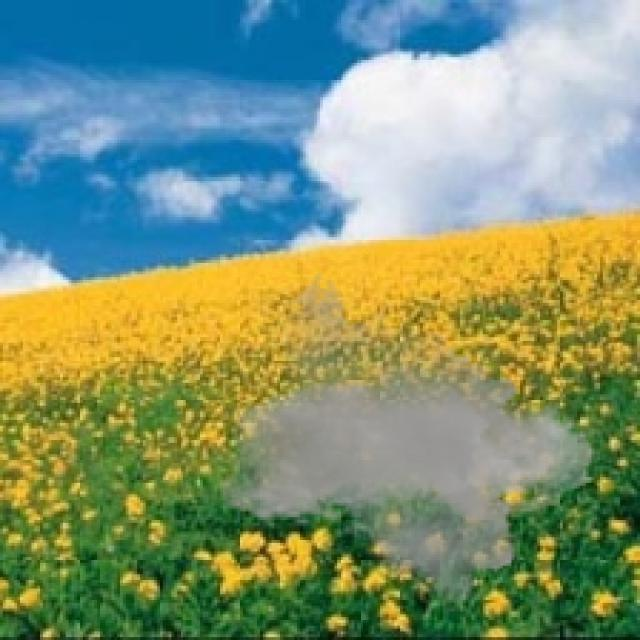Smoke: (217, 272, 594, 614)
